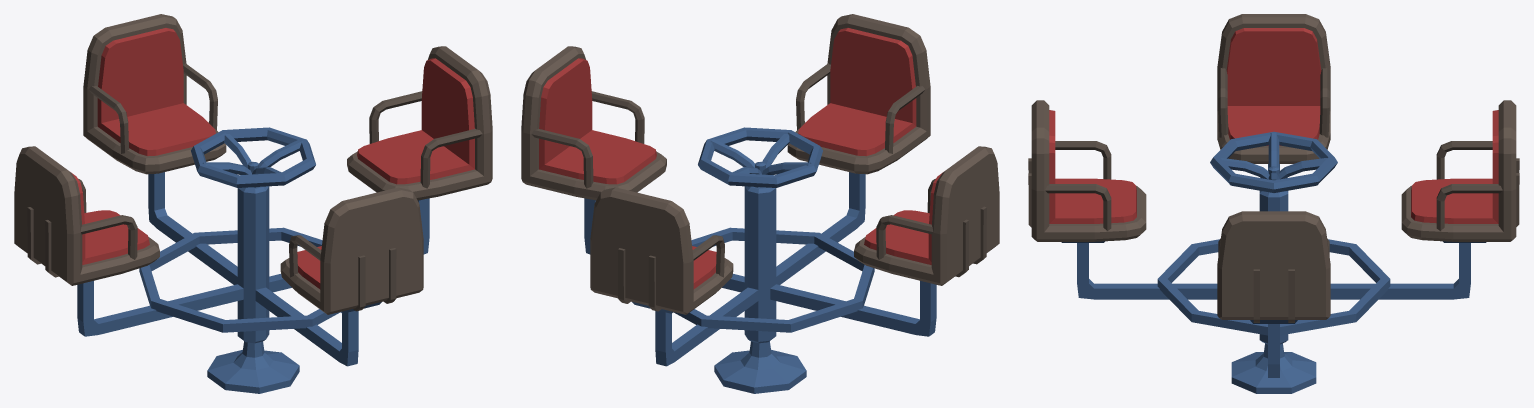
File: SM_Props_City_PlayGround_Equipment_MerryGoRound_Chair.fbx
The picture shows the model from 3 angles, left to right: view 1: azimuth 30°, elevation 25°; view 2: azimuth 150°, elevation 25°; view 3: azimuth 270°, elevation 25°; orthographic projection.
Visible parts, largest first — view 1: SM_Props_City_PlayGround_Equipment_MerryGoRound_Chair; view 2: SM_Props_City_PlayGround_Equipment_MerryGoRound_Chair; view 3: SM_Props_City_PlayGround_Equipment_MerryGoRound_Chair.
Boxes of the visible parts, left/top/right/bottom form: SM_Props_City_PlayGround_Equipment_MerryGoRound_Chair: left=14, top=14, right=492, bottom=393; SM_Props_City_PlayGround_Equipment_MerryGoRound_Chair: left=521, top=14, right=999, bottom=393; SM_Props_City_PlayGround_Equipment_MerryGoRound_Chair: left=1028, top=14, right=1519, bottom=393.
Bounding box in the file's own units: 211 × 124 × 211.
